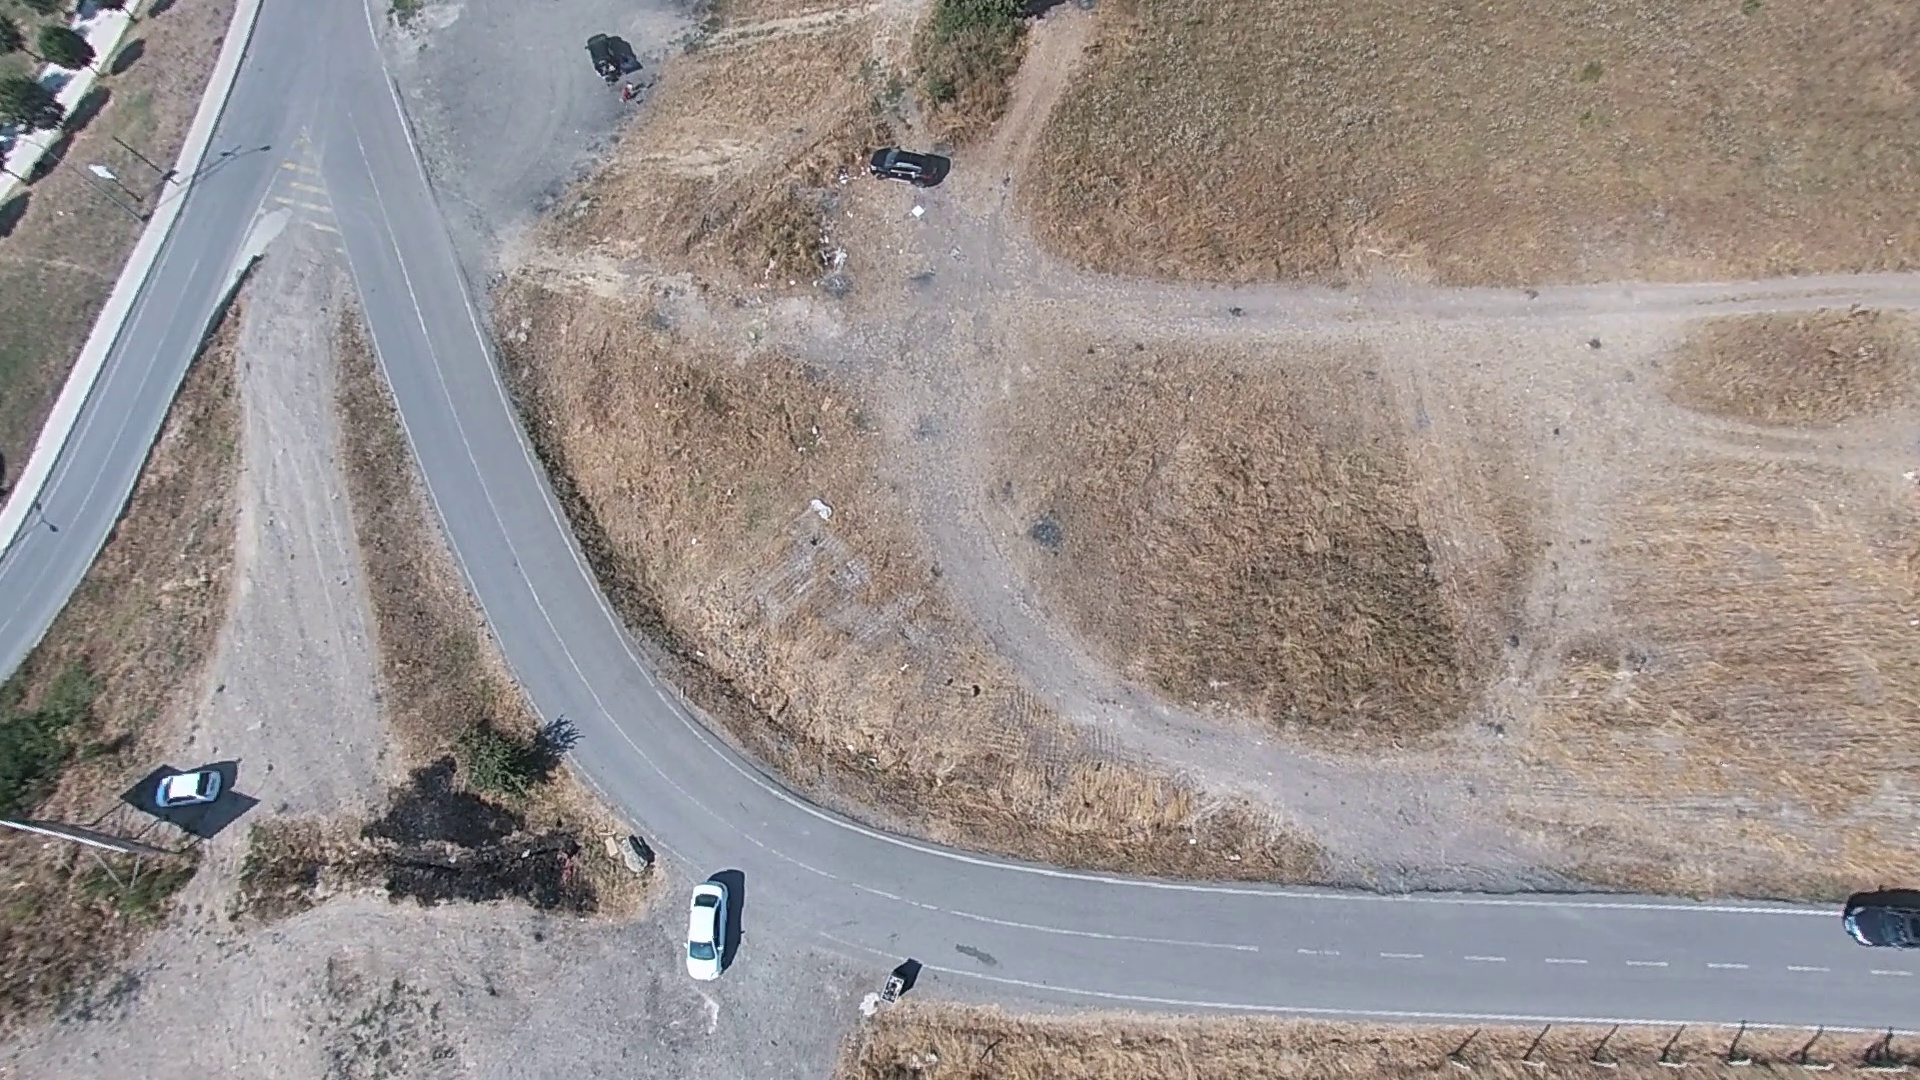arac: (686, 876, 732, 977)
